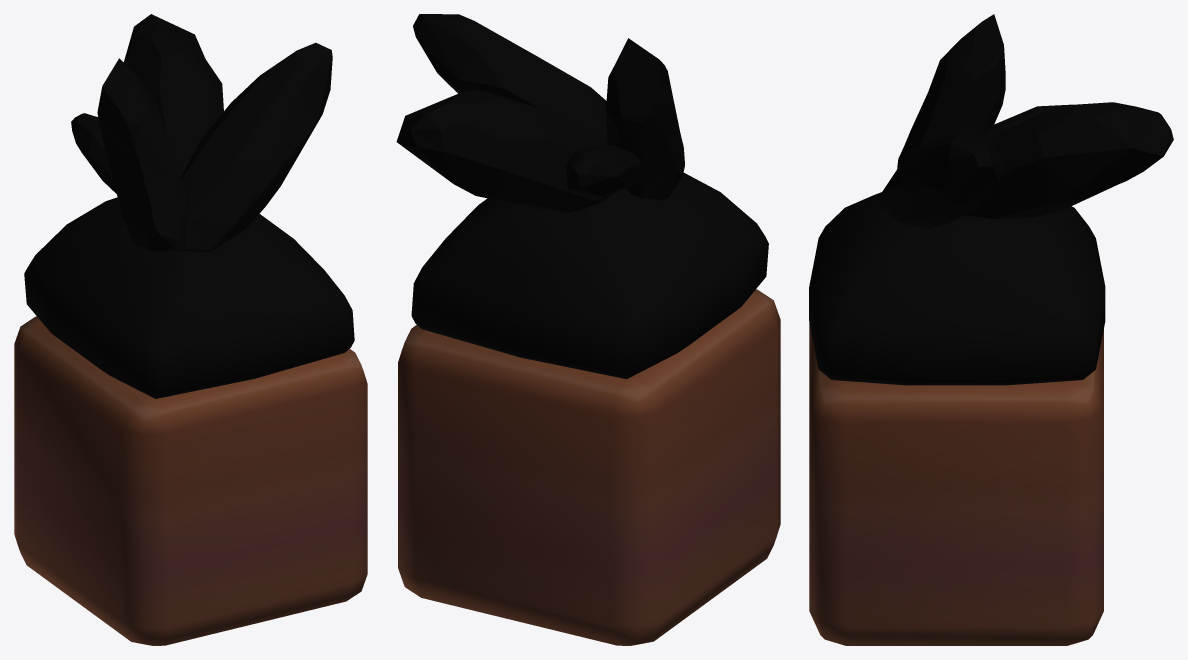
File: block_spec_crystal_tiny.fbx
3 renders of one model, left to right at view 1: azimuth 30°, elevation 25°; view 2: azimuth 150°, elevation 25°; view 3: azimuth 270°, elevation 25°, orthographic. The views are drawn at different scales.
Visible parts, largest first — view 1: block_spec_crystal_tiny; view 2: block_spec_crystal_tiny; view 3: block_spec_crystal_tiny.
Boxes of the visible parts, x1,y1,x2,y2 form: block_spec_crystal_tiny: (14,14,367,645); block_spec_crystal_tiny: (396,14,780,645); block_spec_crystal_tiny: (809,14,1173,645).
Size of the model in its own units: 226 by 417 by 248.
